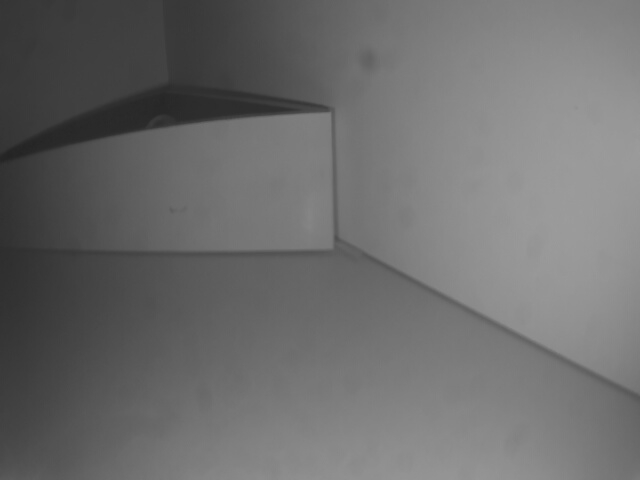Red: (0, 111, 333, 251)
